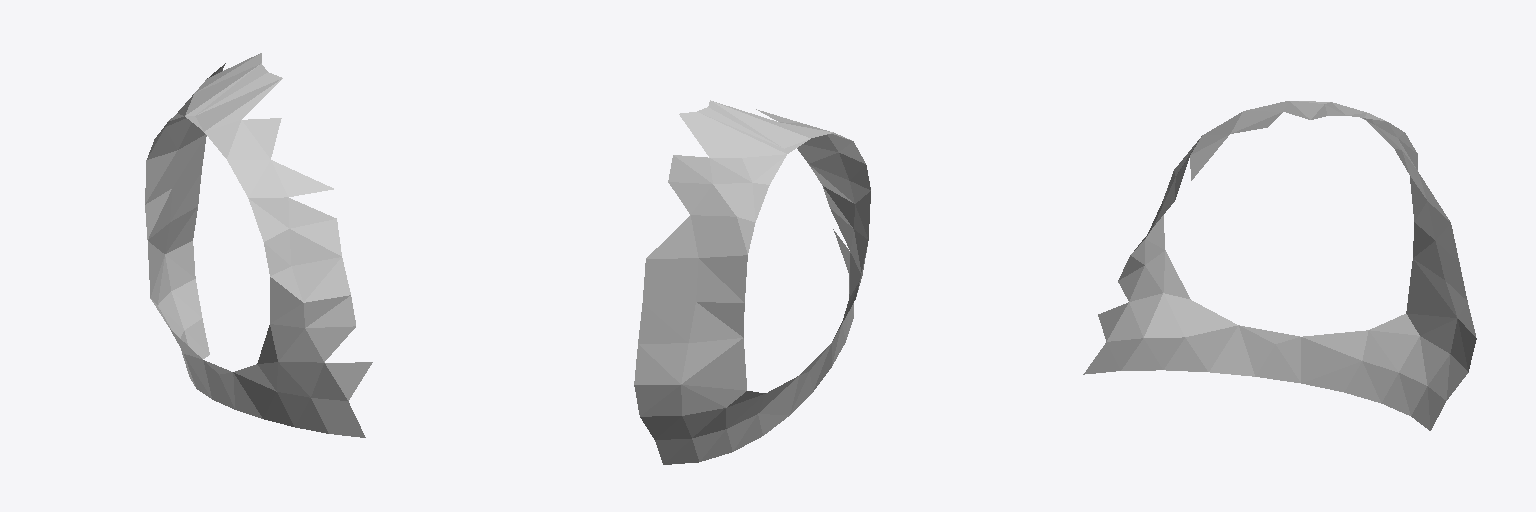
File: RightCollar.obj
The picture shows the model from 3 angles: view 1: azimuth 30°, elevation 25°; view 2: azimuth 150°, elevation 25°; view 3: azimuth 270°, elevation 25°; orthographic projection.
Visible parts, largest first — view 1: polySurface23 polySurface18 polySurface13 polySurface11 polySurf; view 2: polySurface23 polySurface18 polySurface13 polySurface11 polySurf; view 3: polySurface23 polySurface18 polySurface13 polySurface11 polySurf.
Part boxes in pixels (x1,y1,x2,y2): polySurface23 polySurface18 polySurface13 polySurface11 polySurf: (145,53,372,437); polySurface23 polySurface18 polySurface13 polySurface11 polySurf: (634,100,870,464); polySurface23 polySurface18 polySurface13 polySurface11 polySurf: (1083,101,1476,430).
Size of the model in its own units: 2.34 by 7.54 by 8.34.